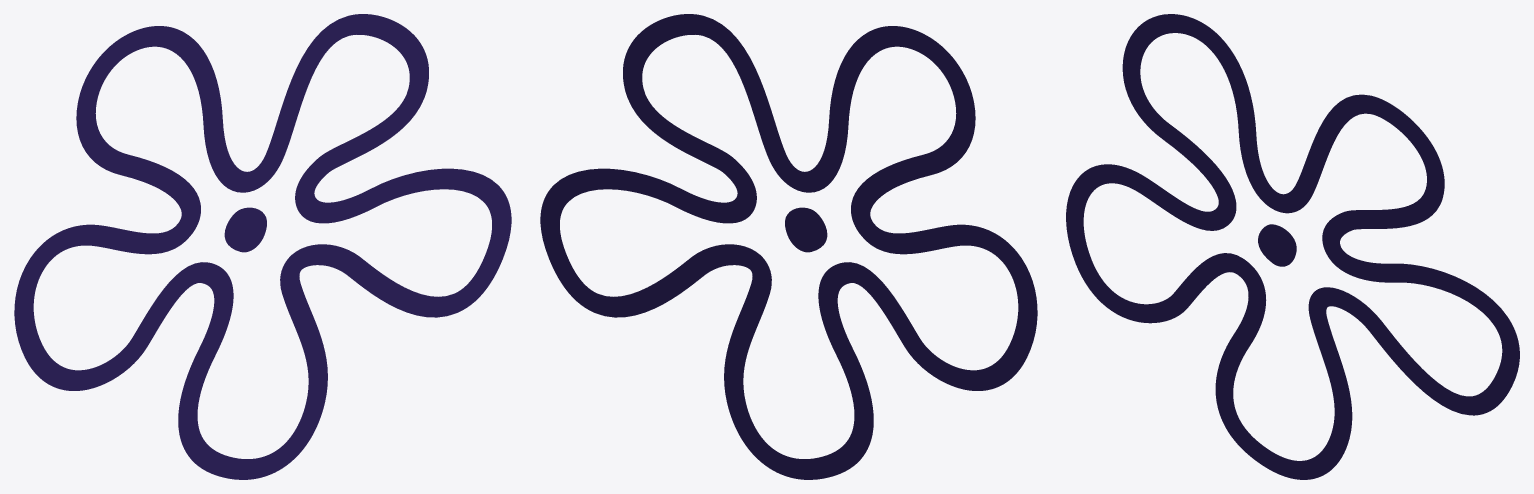
The model's file is flower_6.obj.
The picture shows the model from 3 angles, left to right: view 1: azimuth 30°, elevation 25°; view 2: azimuth 150°, elevation 25°; view 3: azimuth 330°, elevation 25°; orthographic projection. The views are drawn at different scales.
Parts seen in each view (by area): view 1: flower_6; view 2: flower_6; view 3: flower_6.
Boxes of the visible parts, x1,y1,x2,y2 form: flower_6: (14, 14, 511, 479); flower_6: (540, 14, 1037, 479); flower_6: (1066, 14, 1519, 479).
Size of the model in its own units: 4.16 by 3.83 by 0.
